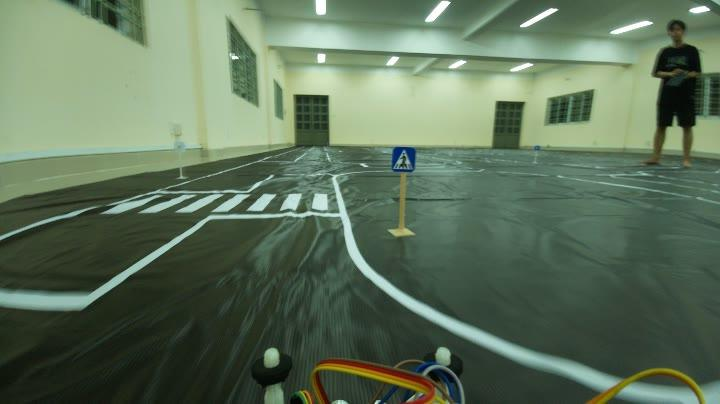crosswalk: (385, 138, 420, 176)
